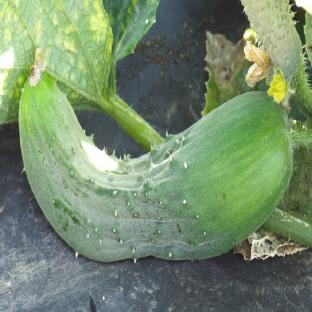Cucumber: (19, 74, 292, 261)
